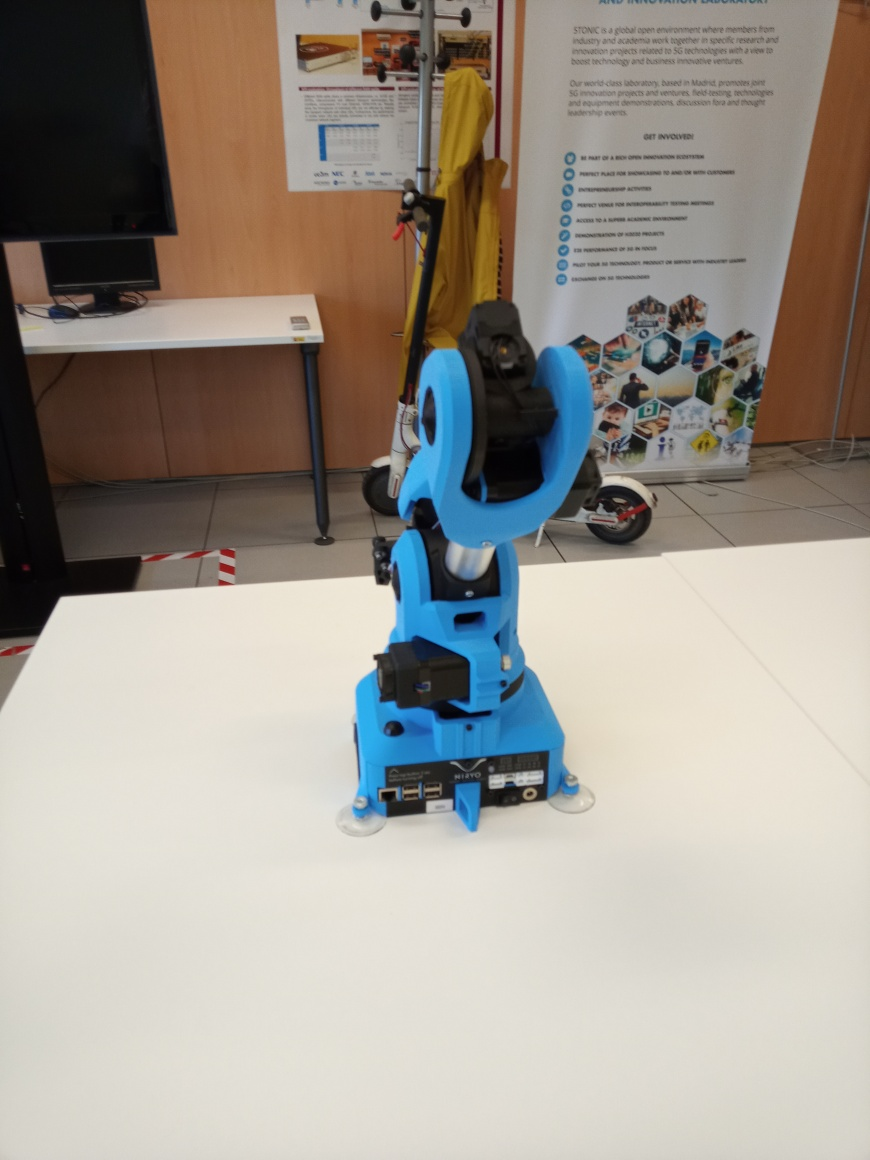robot: (339, 291, 599, 841)
